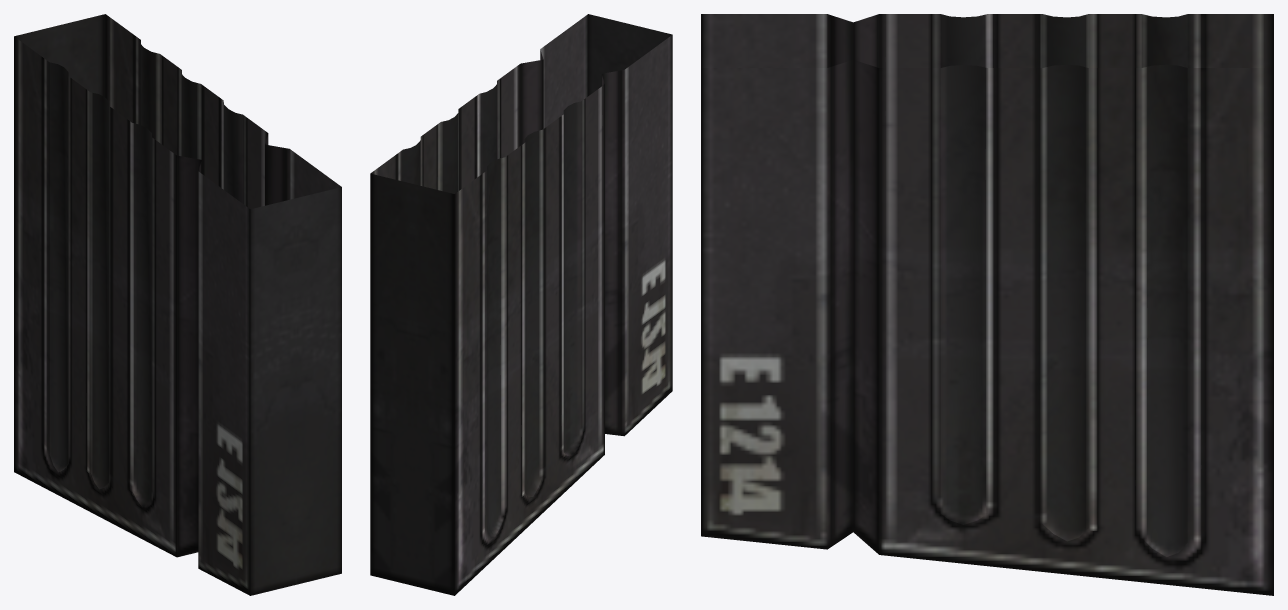
Rendered from SniperRifle_Warfare_Clip_4.FBX.
3 views of the same model, side by side, from view 1: azimuth 30°, elevation 25°; view 2: azimuth 150°, elevation 25°; view 3: azimuth 270°, elevation 25° (orthographic). The views are drawn at different scales.
Visible parts, largest first — view 1: mesh_clip; view 2: mesh_clip; view 3: mesh_clip.
Part boxes in pixels (<box>): mesh_clip: <box>14,14,341,595</box>; mesh_clip: <box>370,14,672,595</box>; mesh_clip: <box>701,14,1273,595</box>.
Bounding box in the file's own units: 0.0247 × 0.1124 × 0.1105.
